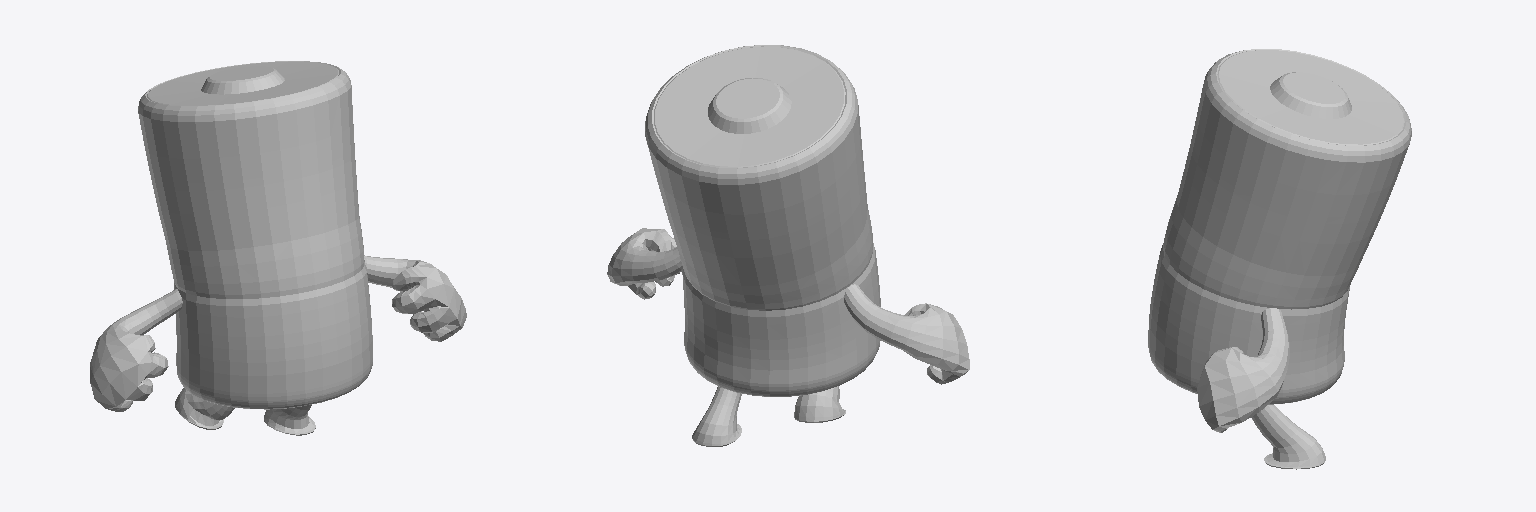
The model's file is boi-2.obj.
3 views of the same model, side by side, from view 1: azimuth 30°, elevation 25°; view 2: azimuth 150°, elevation 25°; view 3: azimuth 270°, elevation 25° (orthographic).
Parts seen in each view (by area): view 1: meshes_0; view 2: meshes_0; view 3: meshes_0.
Boxes of the visible parts, box(x1,y1,x2,y2) form: meshes_0: box(90, 61, 466, 435); meshes_0: box(607, 45, 969, 446); meshes_0: box(1148, 49, 1411, 469).
Bounding box in the file's own units: 127 × 123 × 80.27.